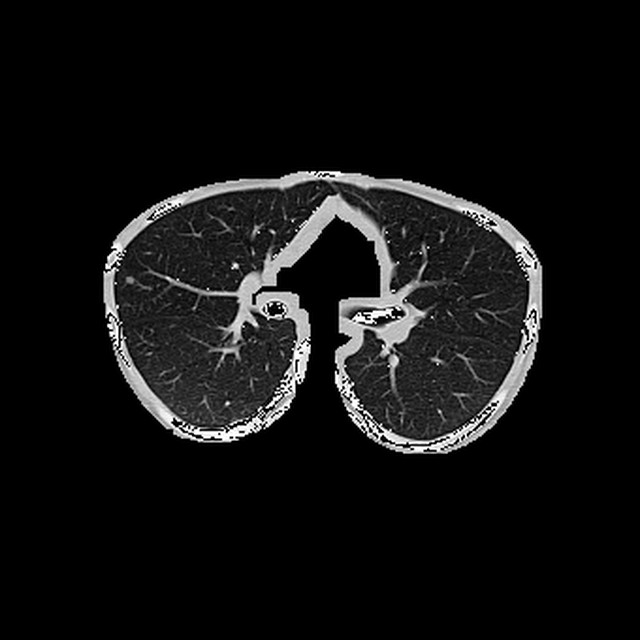PN: (122, 273, 134, 284)
